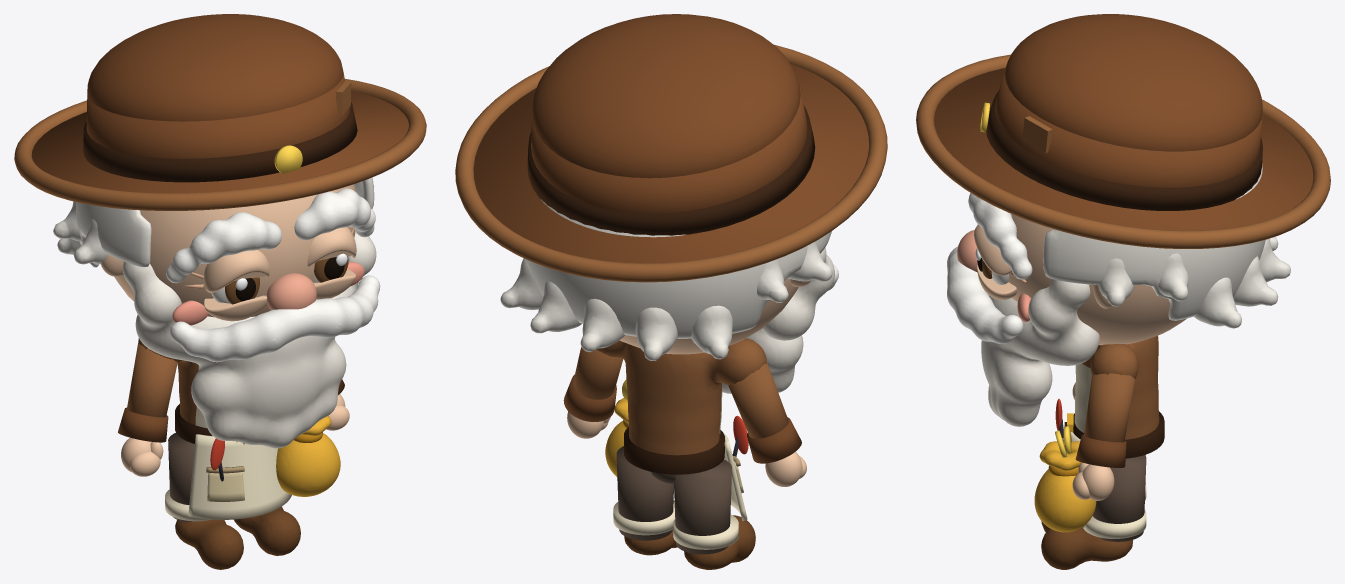
Rendered from marchand.glb.
3 views of the same model, side by side, from view 1: azimuth 30°, elevation 25°; view 2: azimuth 150°, elevation 25°; view 3: azimuth 270°, elevation 25° (orthographic). The views are drawn at different scales.
Visible parts, largest first — view 1: chapeau_dessus, barbe, chapeau_rebord, chapeau_calotte, chapeau_bord, crane, moustache, sourcil, chapeau_ruban, tablier, cheveux, bourse (+18 smaller); view 2: chapeau_dessus, chapeau_bord, chapeau_rebord, tunique, chapeau_calotte, meches, cheveux, chapeau_ruban, barbe, jambe, jambe.001, bras (+13 smaller); view 3: chapeau_dessus, chapeau_bord, chapeau_rebord, barbe, chapeau_calotte, cheveux, chapeau_ruban, meches, crane, tunique, moustache, bras.001 (+14 smaller).
Boxes of the visible parts, left/top/right/bottom form: chapeau_dessus: left=87, top=14, right=343, bottom=121; barbe: left=122, top=231, right=376, bottom=448; chapeau_rebord: left=14, top=79, right=426, bottom=210; chapeau_calotte: left=86, top=74, right=350, bottom=158; chapeau_bord: left=31, top=91, right=408, bottom=193; crane: left=114, top=184, right=355, bottom=317; moustache: left=170, top=275, right=380, bottom=362; sourcil: left=166, top=188, right=375, bottom=283; chapeau_ruban: left=83, top=102, right=357, bottom=182; tablier: left=188, top=434, right=291, bottom=519; cheveux: left=76, top=177, right=374, bottom=267; bourse: left=276, top=433, right=340, bottom=496; chapeau_dessus: left=532, top=14, right=800, bottom=178; chapeau_bord: left=473, top=64, right=868, bottom=263; chapeau_rebord: left=455, top=44, right=887, bottom=282; tunique: left=596, top=338, right=766, bottom=455; chapeau_calotte: left=531, top=87, right=807, bottom=213; meches: left=500, top=241, right=832, bottom=360; cheveux: left=523, top=199, right=831, bottom=338; chapeau_ruban: left=527, top=106, right=815, bottom=235; barbe: left=722, top=248, right=834, bottom=393; jambe: left=674, top=459, right=731, bottom=554; jambe.001: left=616, top=446, right=673, bottom=540; bras: left=728, top=361, right=788, bottom=438; chapeau_dessus: left=1004, top=14, right=1262, bottom=151; chapeau_bord: left=934, top=68, right=1313, bottom=230; chapeau_rebord: left=916, top=54, right=1330, bottom=248; barbe: left=981, top=279, right=1099, bottom=426; chapeau_calotte: left=994, top=68, right=1262, bottom=187; cheveux: left=1043, top=164, right=1265, bottom=320; chapeau_ruban: left=986, top=91, right=1262, bottom=210; meches: left=1098, top=237, right=1290, bottom=328; crane: left=1008, top=214, right=1186, bottom=345; tunique: left=1082, top=335, right=1159, bottom=439; moustache: left=947, top=246, right=1023, bottom=343; bras.001: left=1084, top=373, right=1135, bottom=442.
Bounding box in the file's own units: 2.51 × 3.41 × 2.48.
